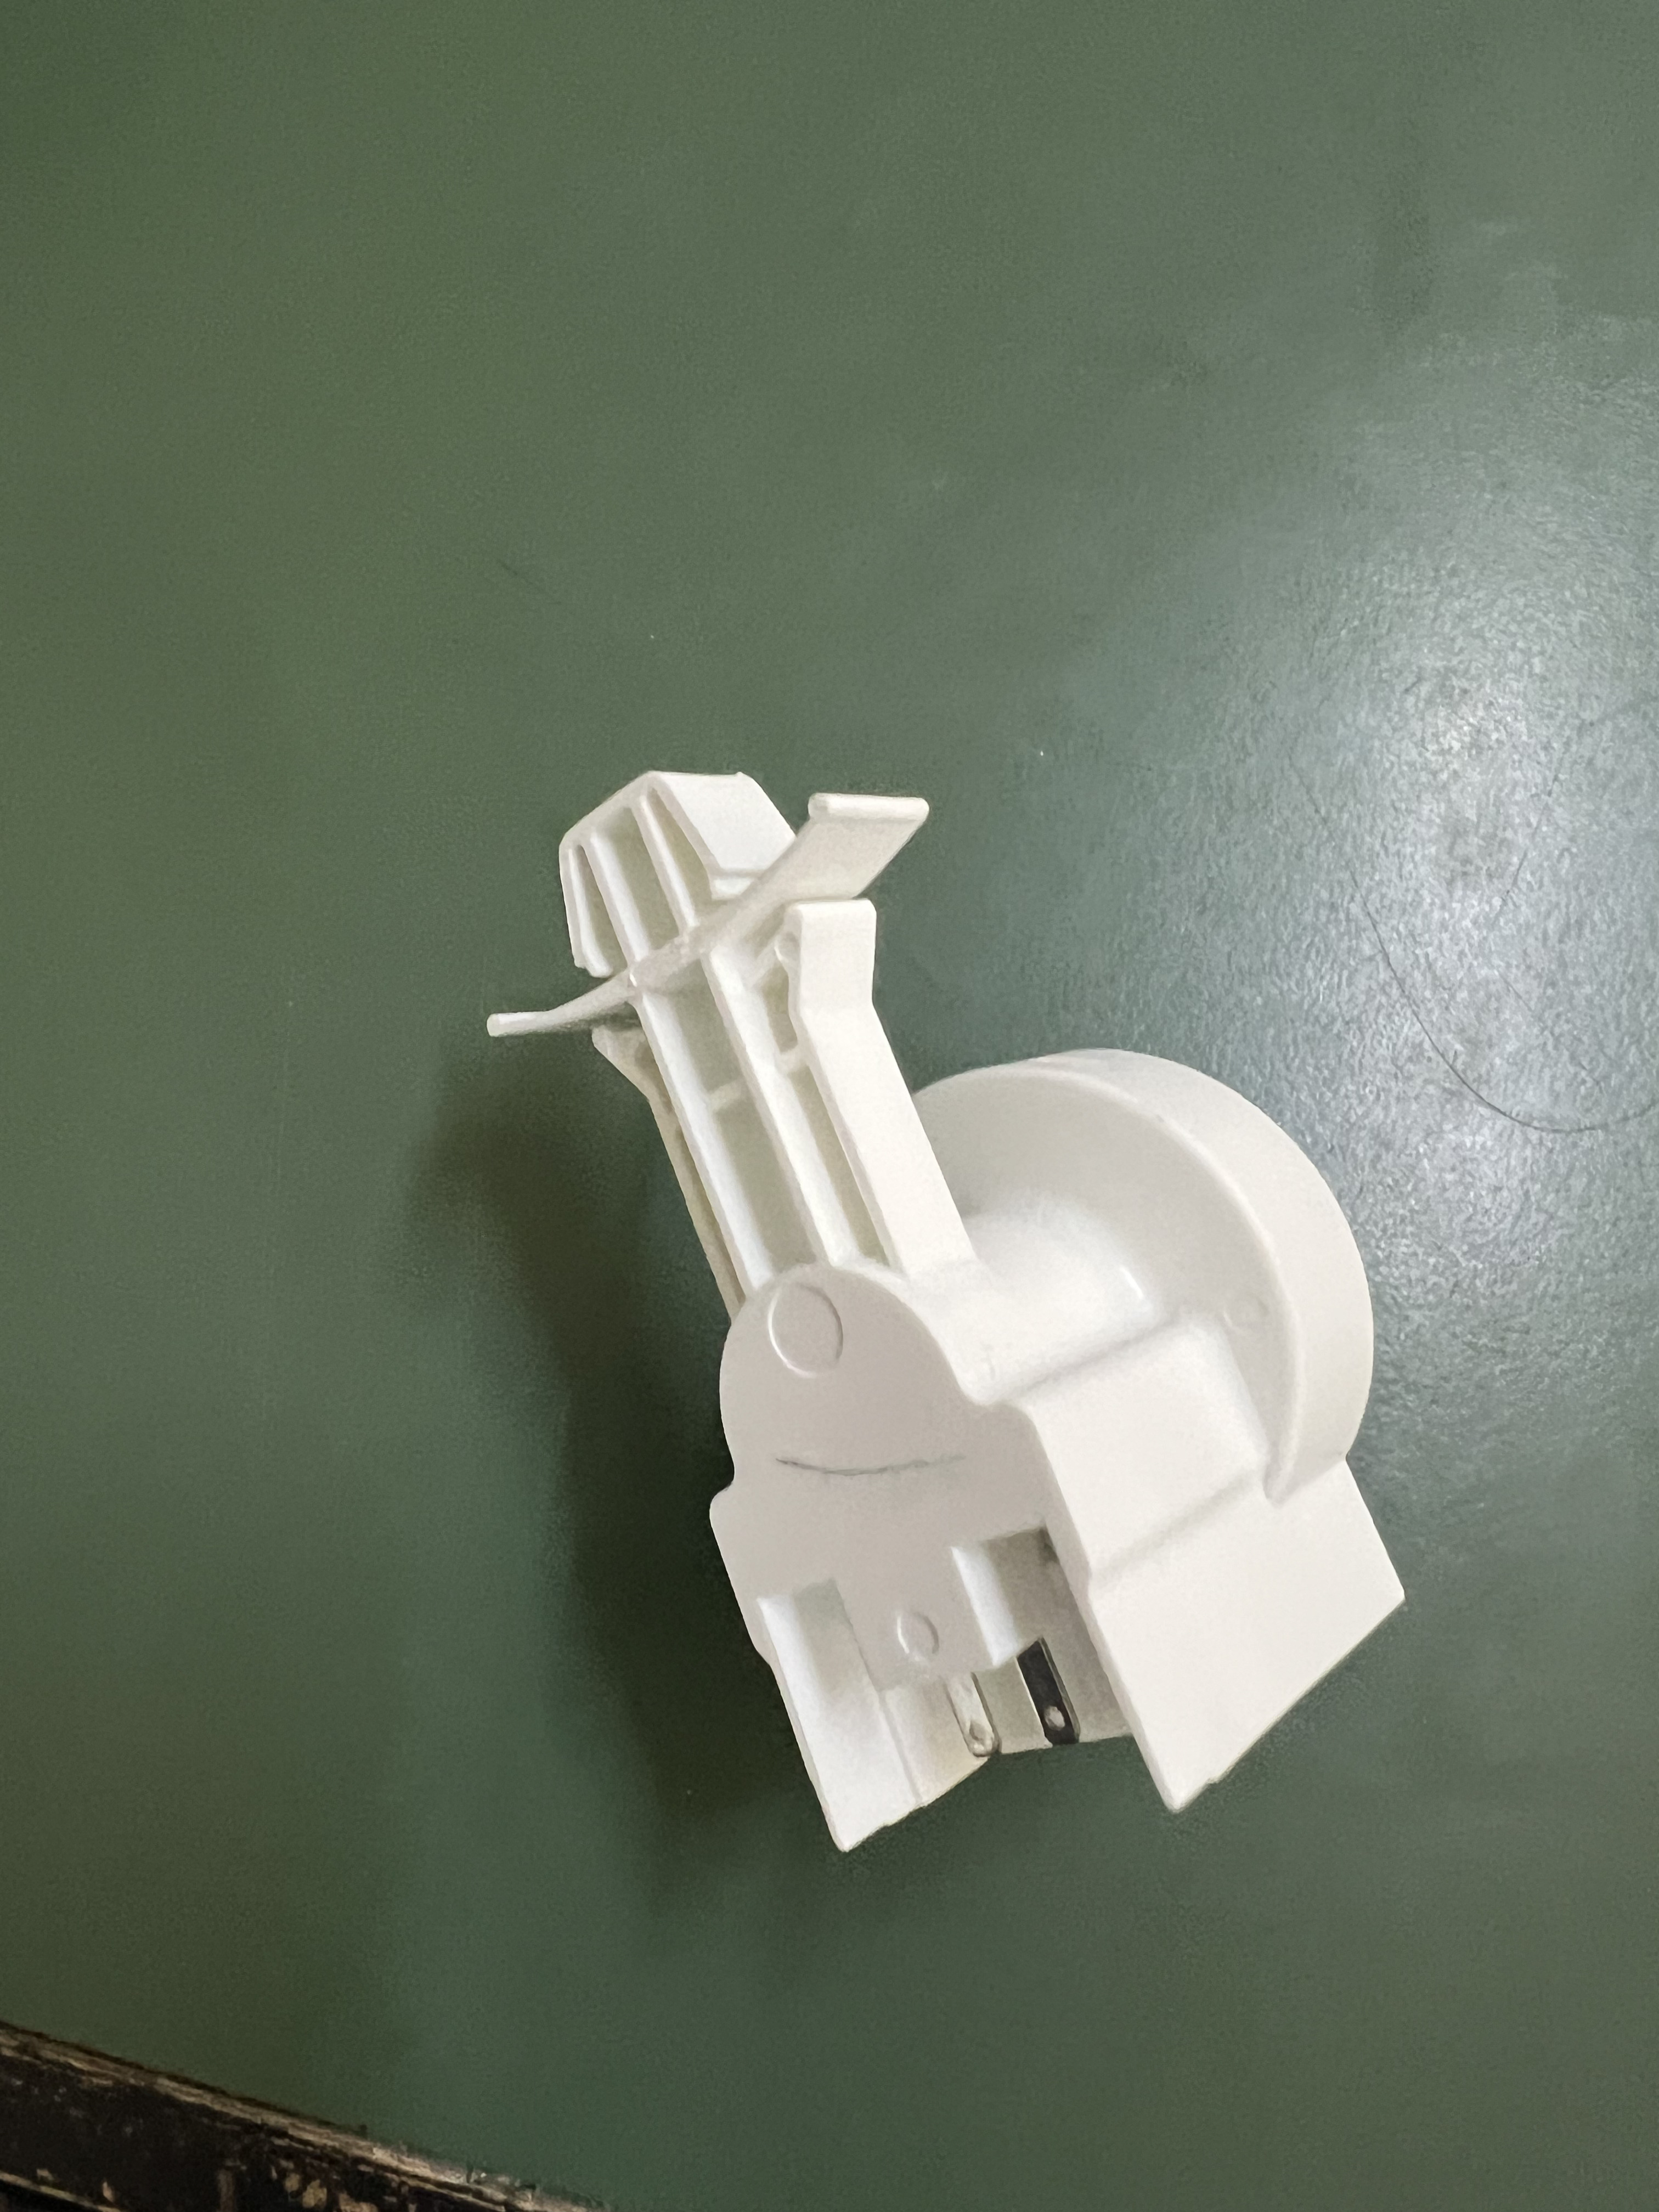pressure_switch_1: (500, 735, 1415, 1862)
